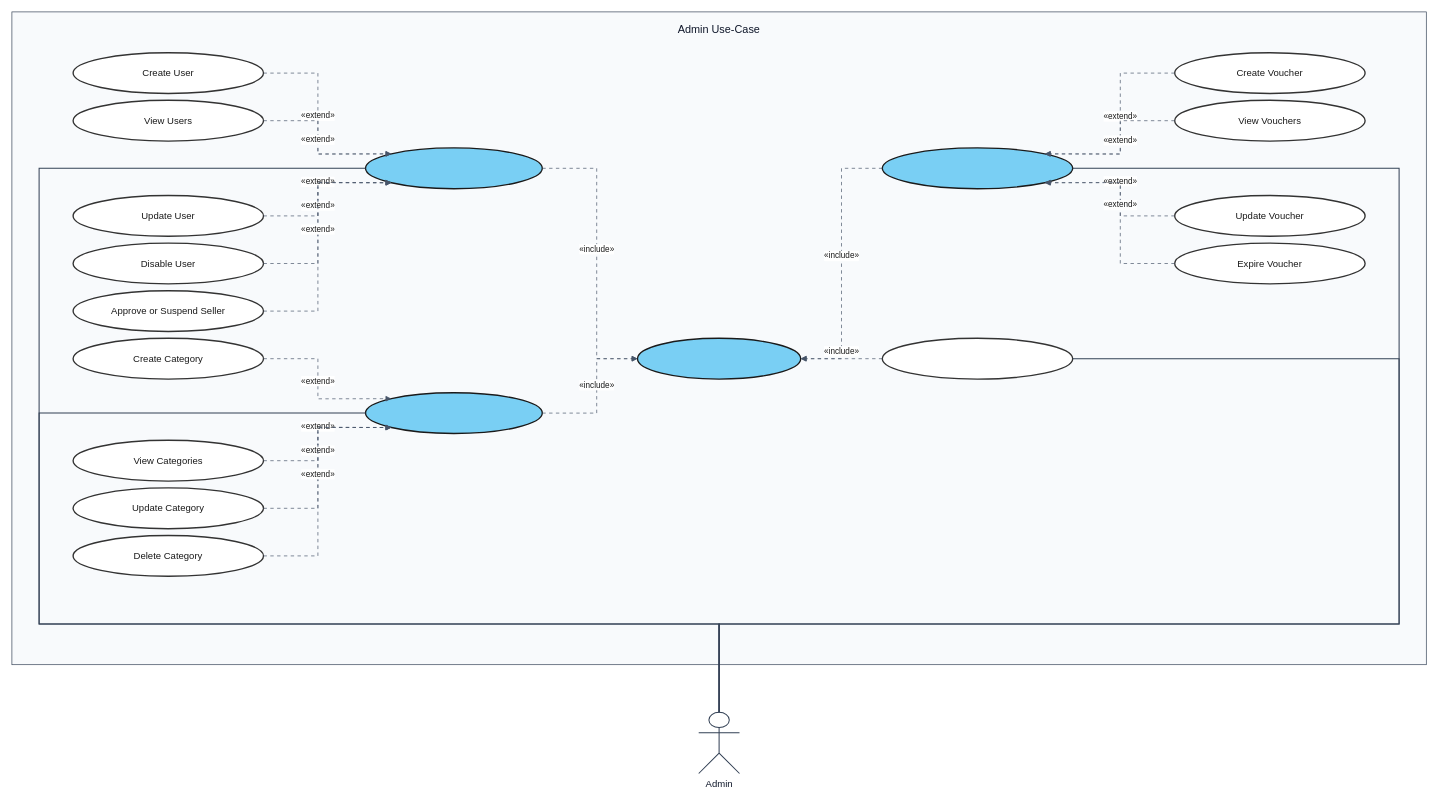
Some shapes in this 1438 by 802 pixel diagram are drawn without their labels. Each missing label, with the centre of its shape:
Login: the point at 718,358
Manage Carriers: the point at 977,358
Manage Categories: the point at 453,413
Manage Users: the point at 453,168
Manage Vouchers: the point at 977,168
